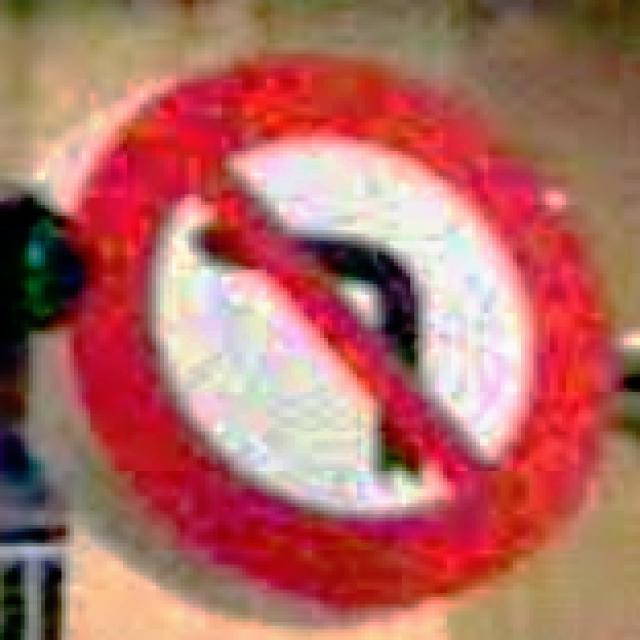noturnleft: (32, 43, 624, 626)
